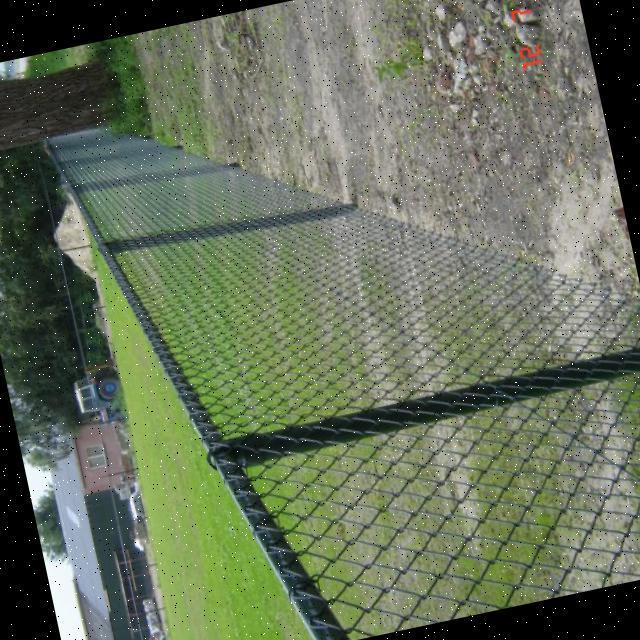fence line: (170, 245, 639, 639), (97, 146, 501, 377), (51, 103, 239, 258)
